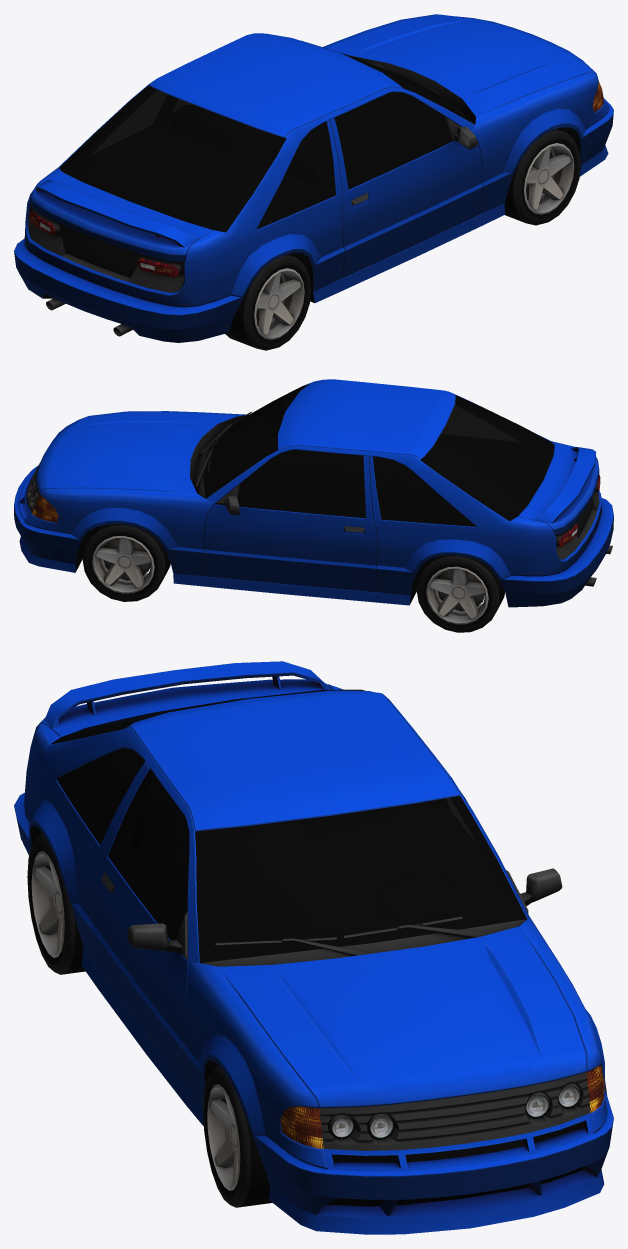
Rendered from coupe.glb.
3 renders of one model, top to bottom at view 1: azimuth 30°, elevation 25°; view 2: azimuth 150°, elevation 25°; view 3: azimuth 270°, elevation 25°, orthographic. The views are drawn at different scales.
Parts seen in each view (by area): view 1: Coupe Body, Wheel_F003, Wheel_F002; view 2: Coupe Body, Wheel_F001, Wheel_F; view 3: Coupe Body, Wheel_F002, Wheel_F003.
Part boxes in pixels (<box>): Coupe Body: <box>14,14,613,342</box>; Wheel_F003: <box>225,254,311,350</box>; Wheel_F002: <box>504,128,581,225</box>; Coupe Body: <box>14,379,613,607</box>; Wheel_F001: <box>416,555,504,632</box>; Wheel_F: <box>82,524,170,601</box>; Coupe Body: <box>14,661,613,1234</box>; Wheel_F002: <box>203,1066,272,1207</box>; Wheel_F003: <box>27,833,85,974</box>.
Bounding box in the file's own units: 4.2 × 1.28 × 2.5.
Materials: 4 (3 with a texture image).
